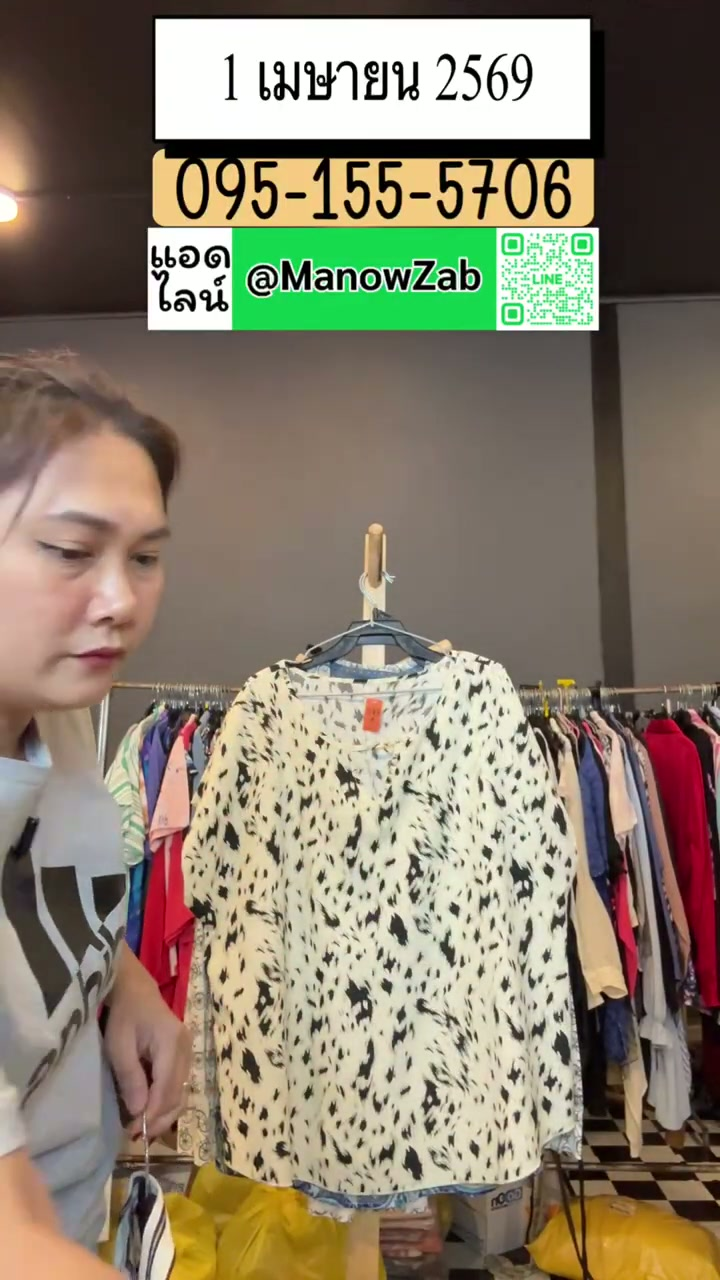display_shirt: (185, 652, 579, 1199)
